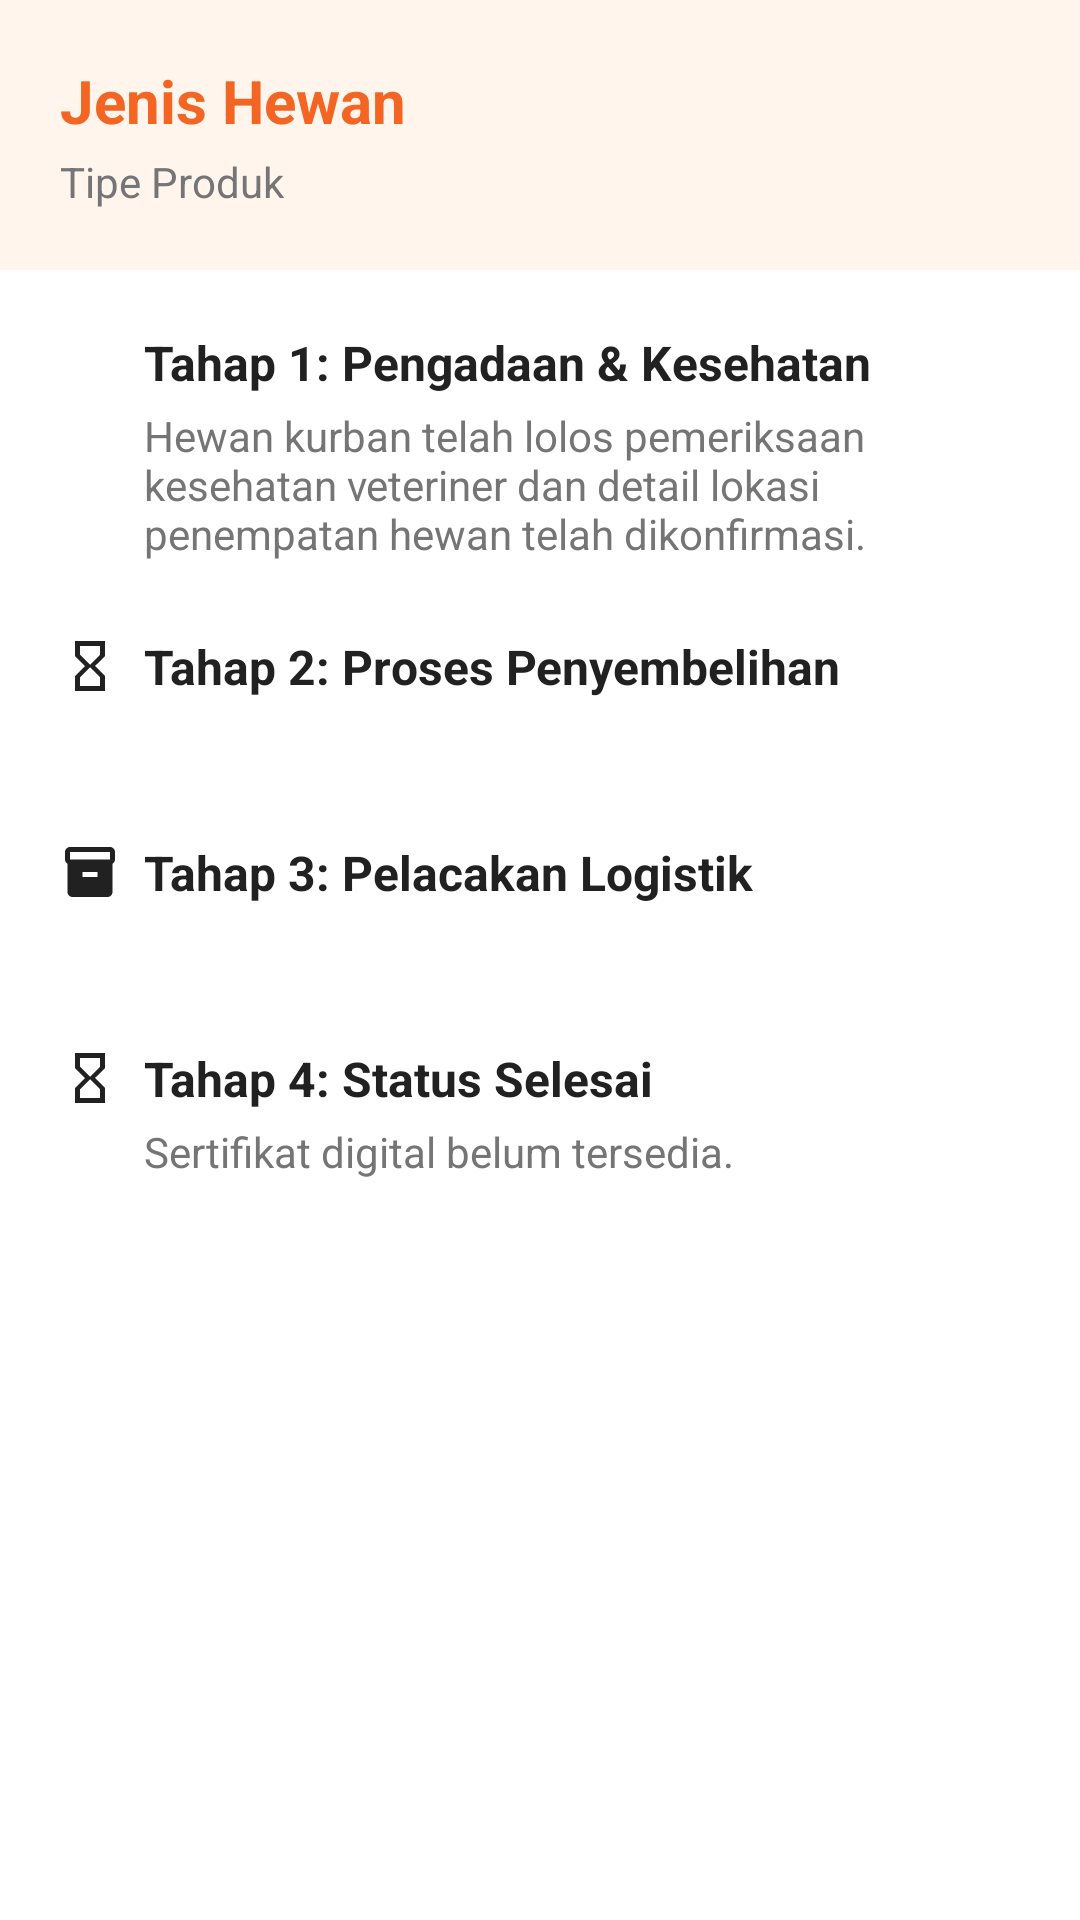

Named icons in this screenshot (1080 x 1920) and their centers, (x=x, y=y):
pending: (x=90, y=666), (x=90, y=1078)
